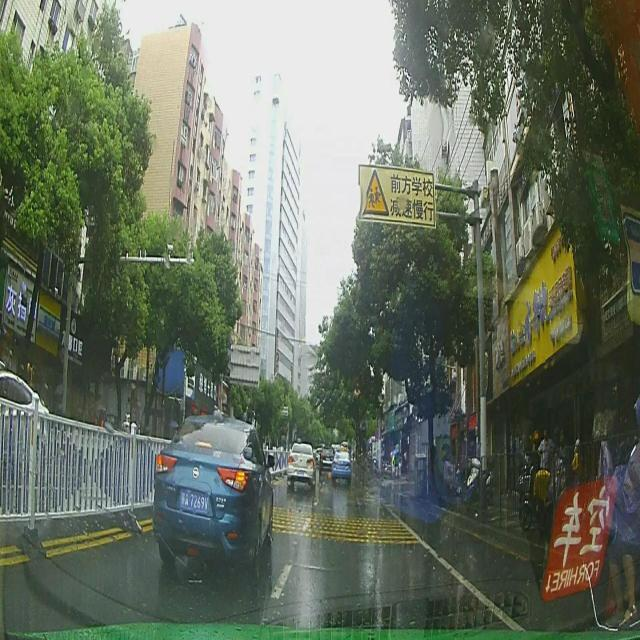car: (150, 415, 274, 566), (286, 442, 316, 483), (330, 448, 352, 482), (320, 449, 334, 472)
